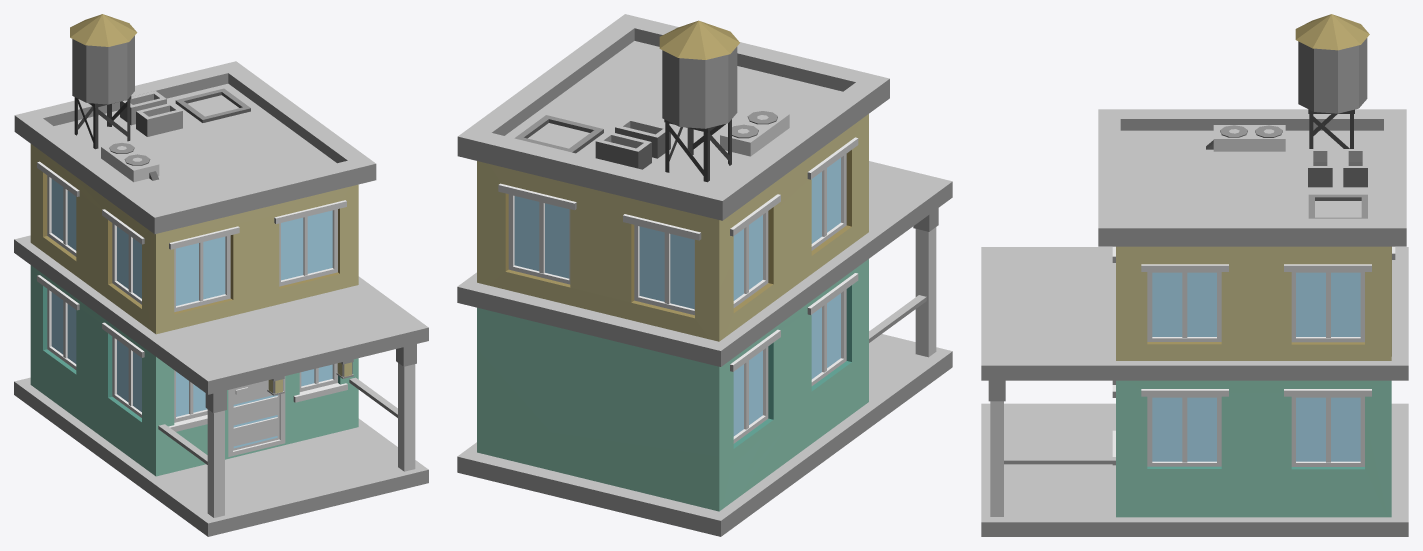
The model's file is house_small_1_003.fbx.
The picture shows the model from 3 angles, left to right: view 1: azimuth 30°, elevation 25°; view 2: azimuth 150°, elevation 25°; view 3: azimuth 270°, elevation 25°; orthographic projection. The views are drawn at different scales.
Visible parts, largest first — view 1: house_small_1_003; view 2: house_small_1_003; view 3: house_small_1_003.
Part boxes in pixels (box(x1,y1,x2,y2)): house_small_1_003: box(14, 14, 428, 536); house_small_1_003: box(457, 14, 952, 536); house_small_1_003: box(981, 14, 1408, 536).
Size of the model in its own units: 492 by 835 by 746.
